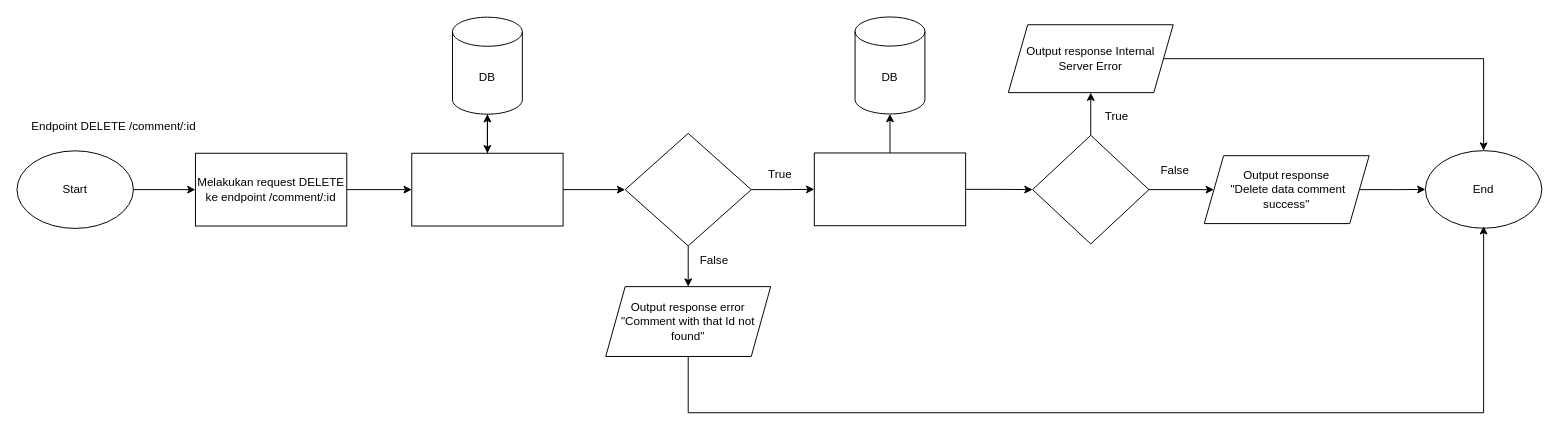
The diagram is 1559 pixels wide and 437 high, and some of its shapes have lost their labels. Here are the shapes that lost their labels. From the top down, the centre of each, then its label:
point (487, 189): Query select detail comment
point (687, 189): Comment ditemukan di database
point (889, 189): Query delete comment
point (1090, 189): Terdapat error
